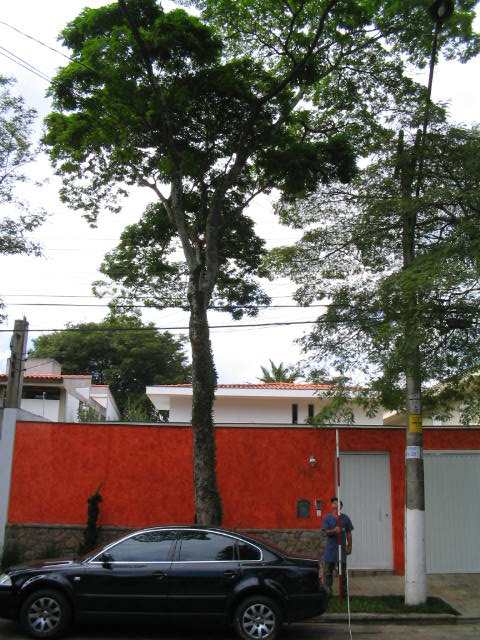crown: (47, 4, 354, 247)
stem: (168, 303, 241, 602)
stick: (329, 428, 348, 604)
tree: (44, 1, 355, 605)
